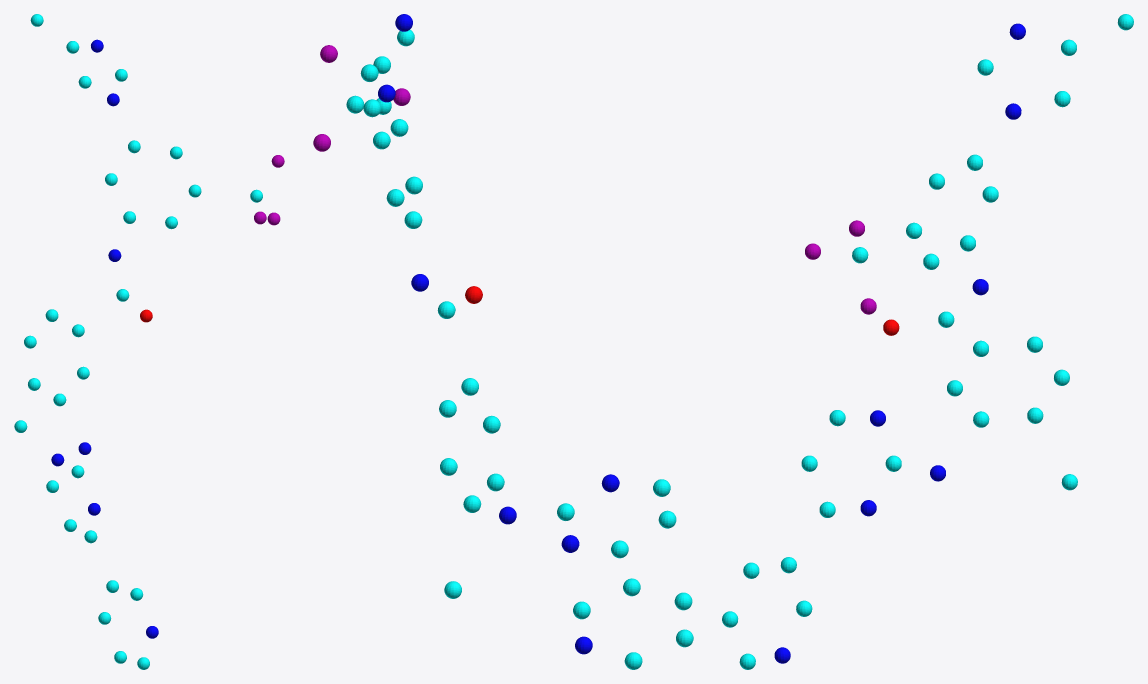
Rendered from nil_c.glb.
3 renders of one model, left to right at view 1: azimuth 30°, elevation 25°; view 2: azimuth 150°, elevation 25°; view 3: azimuth 270°, elevation 25°, orthographic. The views are drawn at different scales.
Size of the model in its own units: 1.08 by 2.26 by 1.24.
